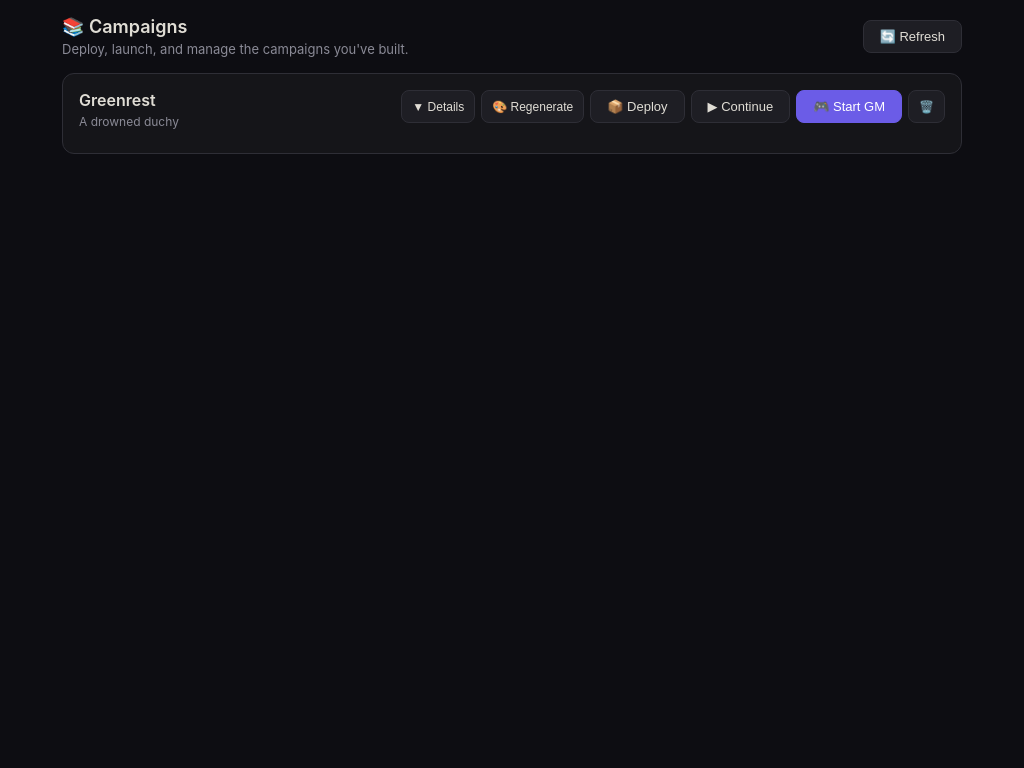
Test: CampaignStart — campaign details › shows a zero count rather than hiding the stat
Click the button "▼ Details". click: (438, 106)
box: [401,90,475,123]
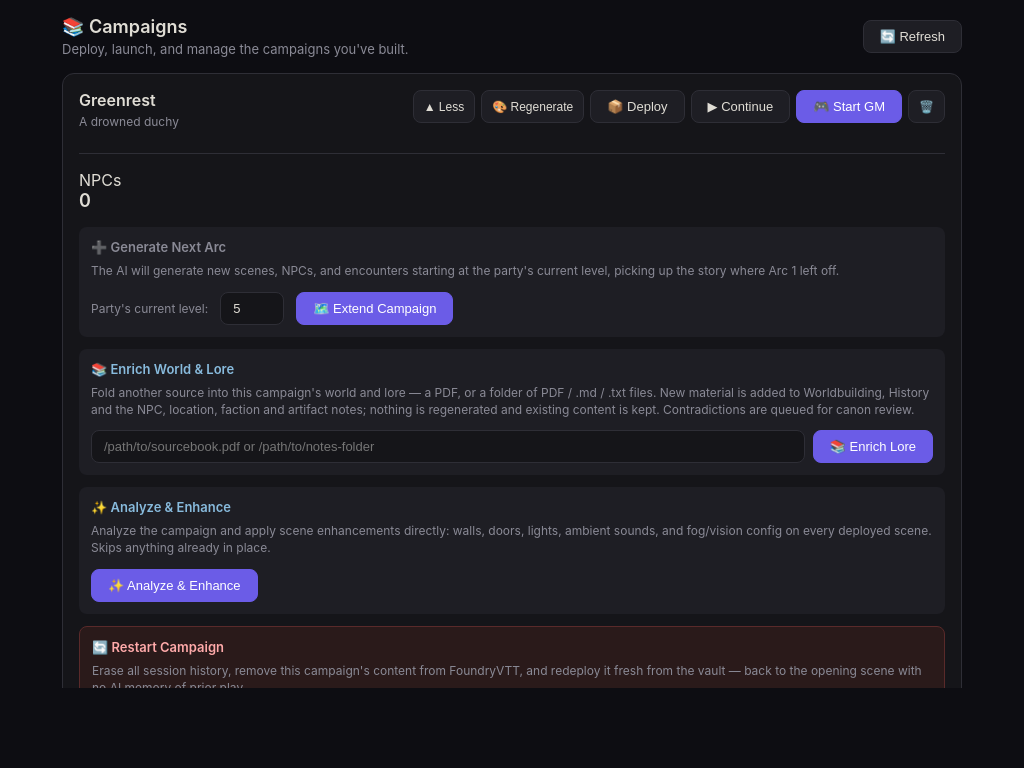
Check: the text "NPCs" is shown, box [79,170,121,190]
Check: the text "0" is shown, box [79,190,91,211]
